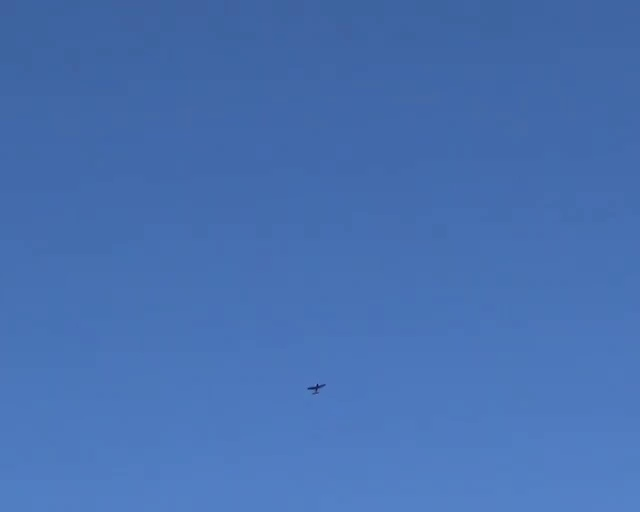AIRPLANE: (307, 383, 326, 394)
